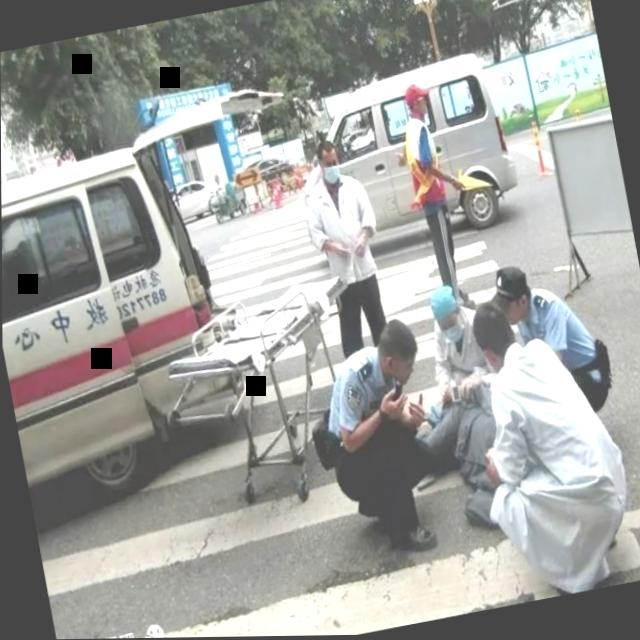Fall-Detected: (387, 359, 536, 515)
